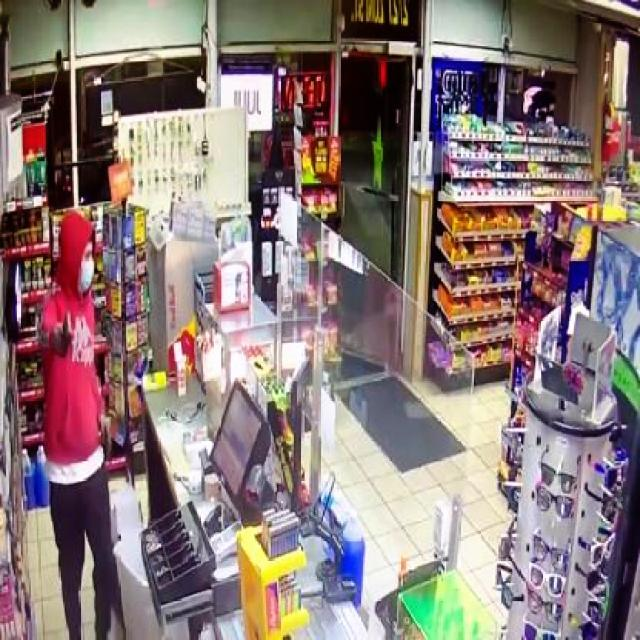Gun: (59, 303, 84, 361)
